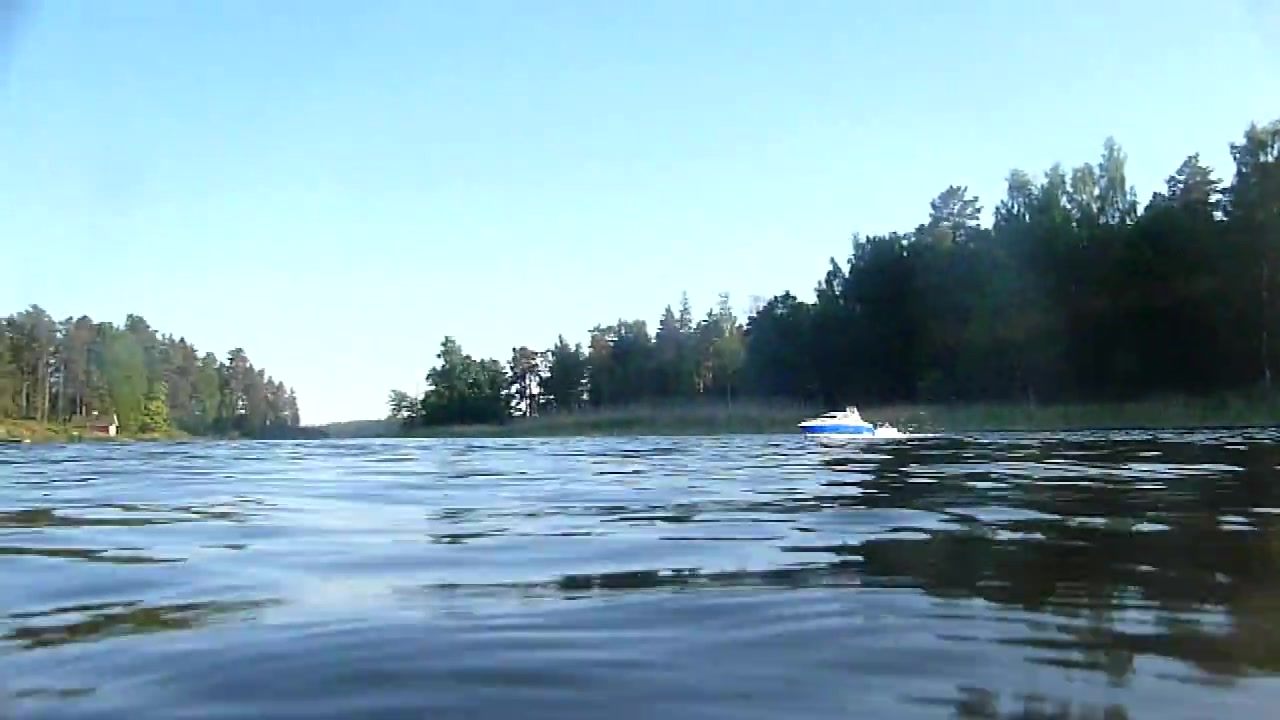boat: (794, 405, 882, 444)
